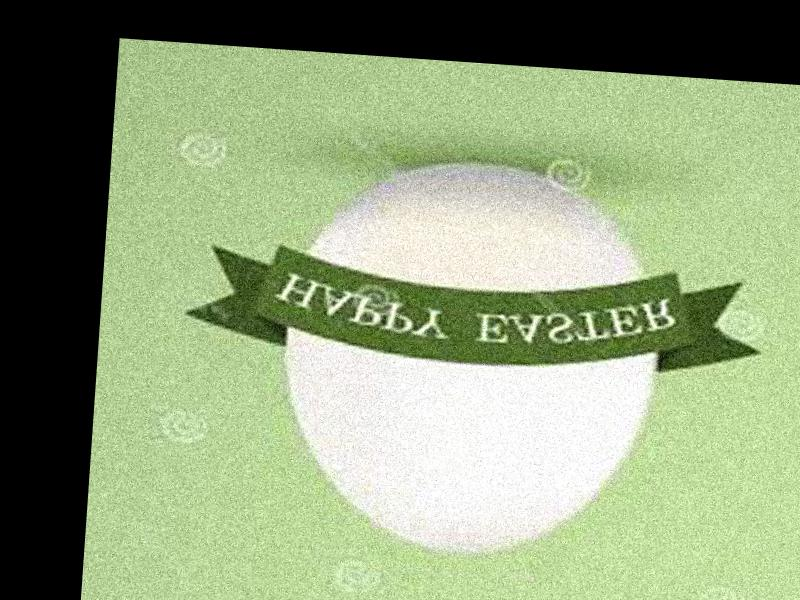Eggs: (277, 152, 671, 564)
